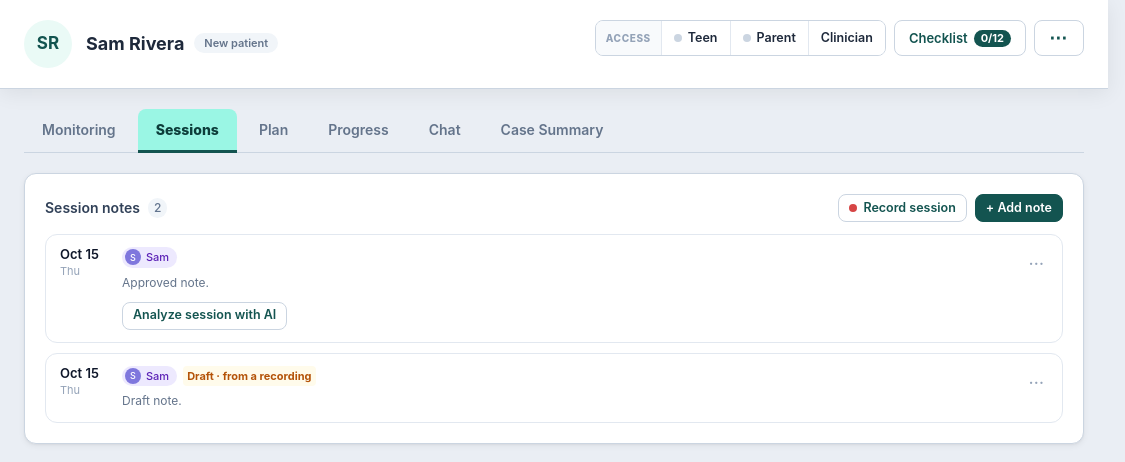
Analyze session with AI › analyzes that note and says so while it runs
The image size is (1125, 462).
Click the button "Analyze session with AI" at {"x": 205, "y": 316}, box [122,302,287,330]
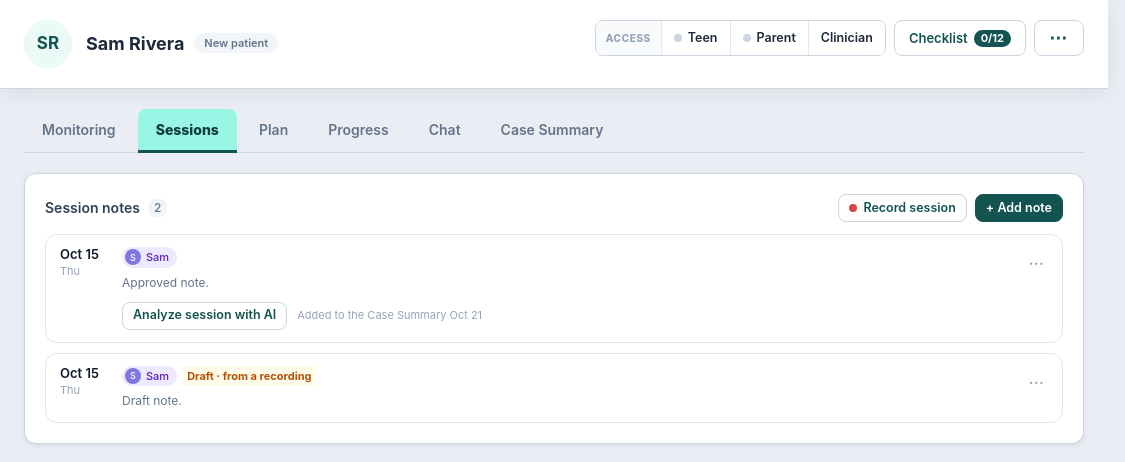
Now the text "Added to the Case Summary Oct 21" is shown, box [297,307,482,324]
